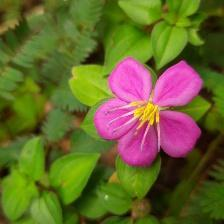malabar melastome: (94, 56, 205, 169)
